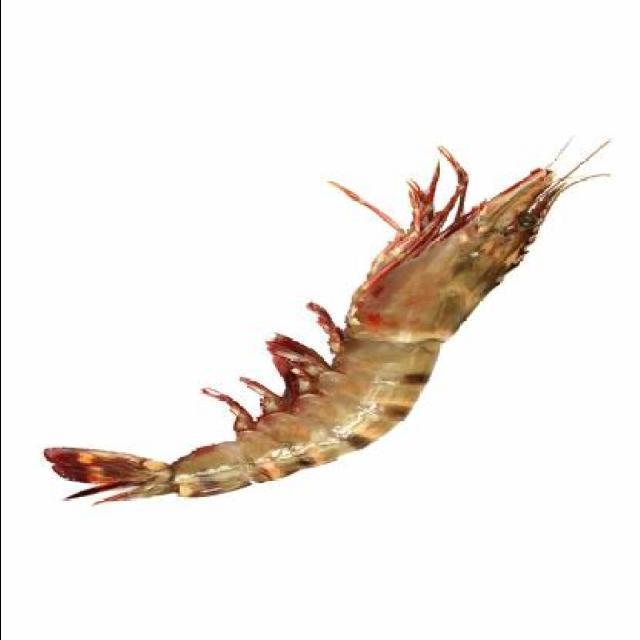shrimp: (45, 157, 592, 506)
